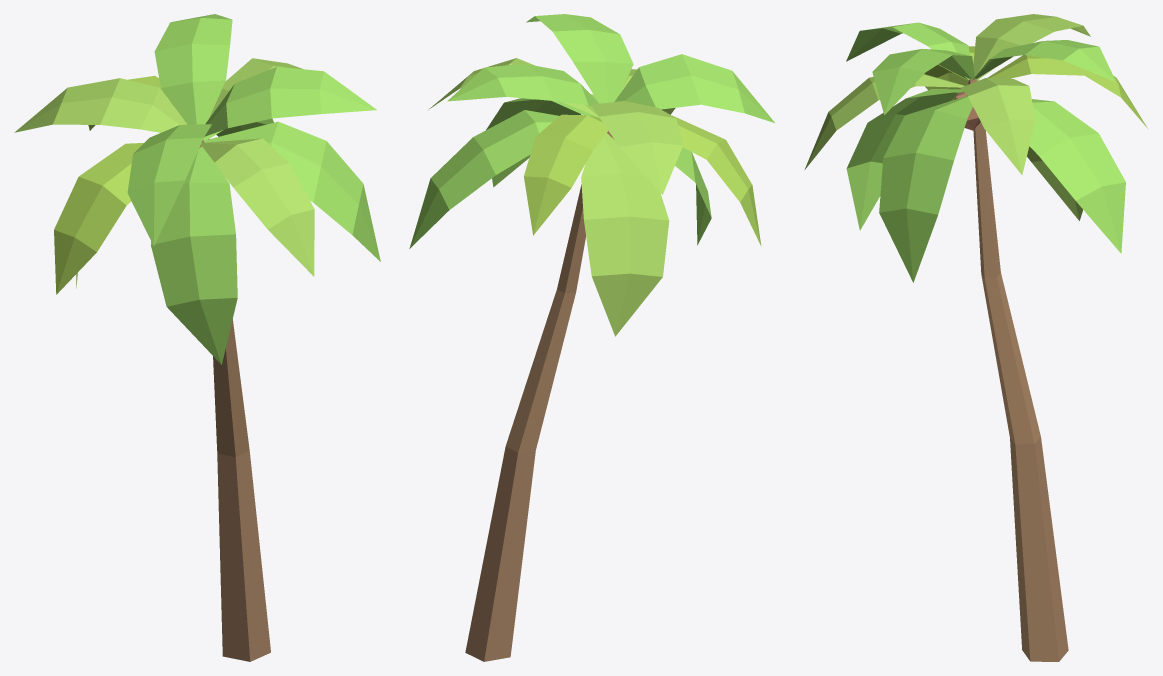
File: Palm_Tree_Coconut_OneSided_l_06_LOD.fbx
The picture shows the model from 3 angles, left to right: view 1: azimuth 30°, elevation 25°; view 2: azimuth 150°, elevation 25°; view 3: azimuth 270°, elevation 25°; orthographic projection. The views are drawn at different scales.
Parts seen in each view (by area): view 1: Palm_Tree_Coconut_OneSided_l_06_LOD0; view 2: Palm_Tree_Coconut_OneSided_l_06_LOD0; view 3: Palm_Tree_Coconut_OneSided_l_06_LOD0.
Part boxes in pixels (box(x1,y1,x2,y2)): Palm_Tree_Coconut_OneSided_l_06_LOD0: box(14, 14, 380, 661); Palm_Tree_Coconut_OneSided_l_06_LOD0: box(409, 14, 774, 661); Palm_Tree_Coconut_OneSided_l_06_LOD0: box(804, 14, 1147, 661).
Size of what is drawn, in the model's own units: 377 by 712 by 375.
